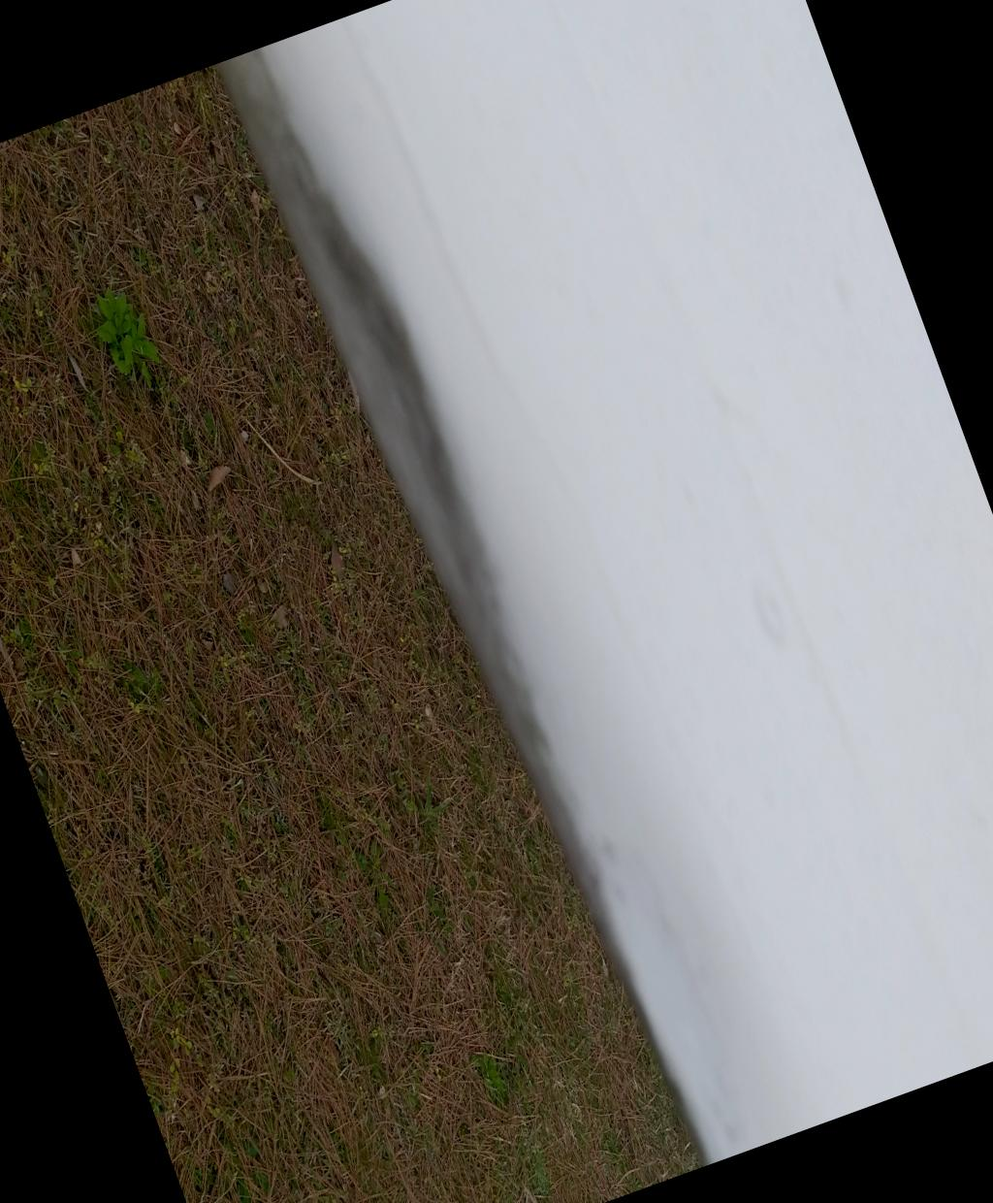dent: (499, 0, 762, 148)
